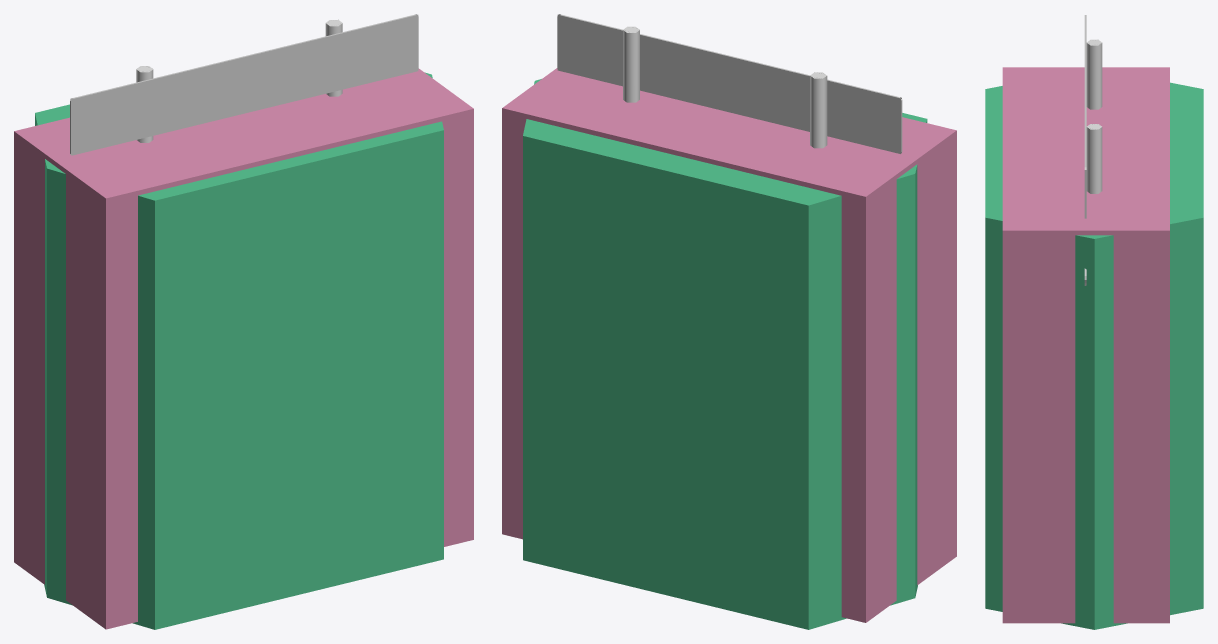
The model's file is billboards_03_a.dae.
3 views of the same model, side by side, from view 1: azimuth 30°, elevation 25°; view 2: azimuth 150°, elevation 25°; view 3: azimuth 270°, elevation 25° (orthographic). The views are drawn at different scales.
Visible parts, largest first — view 1: Colmesh-1, Untitled, tree_oak_bush_a10, tree_oak_bush_a250; view 2: Colmesh-1, Untitled, tree_oak_bush_a51, tree_oak_bush_a250; view 3: Untitled, Colmesh-1, tree_oak_bush_a250.
Boxes of the visible parts, x1,y1,x2,y2 form: Colmesh-1: (35,72,443,629); Untitled: (14,68,473,629); tree_oak_bush_a10: (70,14,418,155); tree_oak_bush_a250: (70,14,418,153); Colmesh-1: (523,79,927,629); Untitled: (502,68,956,622); tree_oak_bush_a51: (557,14,901,153); tree_oak_bush_a250: (557,14,902,153); Untitled: (1002,67,1169,623); Colmesh-1: (985,82,1203,629); tree_oak_bush_a250: (1084,15,1102,285).
Size of the model in its own units: 1.24 by 0.6581 by 1.53.
